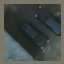car: (34, 6, 60, 33), (25, 23, 51, 50)
